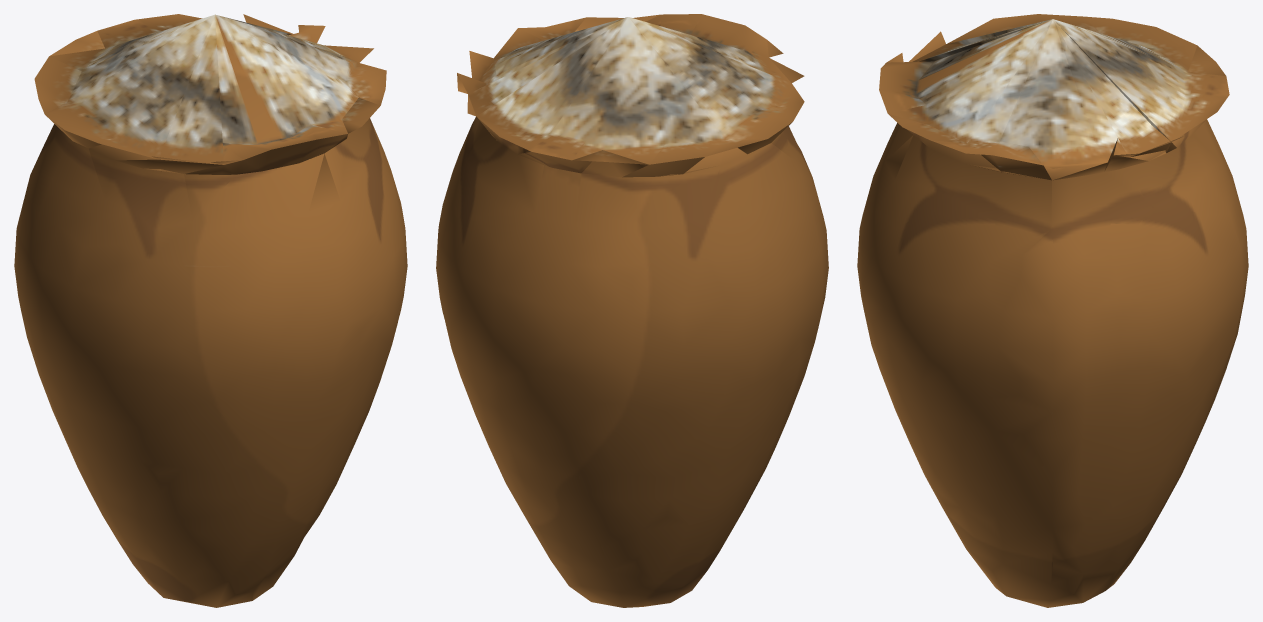
The model's file is rice_sack.glb.
3 renders of one model, left to right at view 1: azimuth 30°, elevation 25°; view 2: azimuth 150°, elevation 25°; view 3: azimuth 270°, elevation 25°, orthographic.
Visible parts, largest first — view 1: mesh; view 2: mesh; view 3: mesh.
Part boxes in pixels (<box>): mesh: <box>14,14,407,607</box>; mesh: <box>436,14,828,607</box>; mesh: <box>857,14,1248,607</box>.
Size of the model in its own units: 0.2378 by 0.368 by 0.2287.
1 material, 1 textured.
